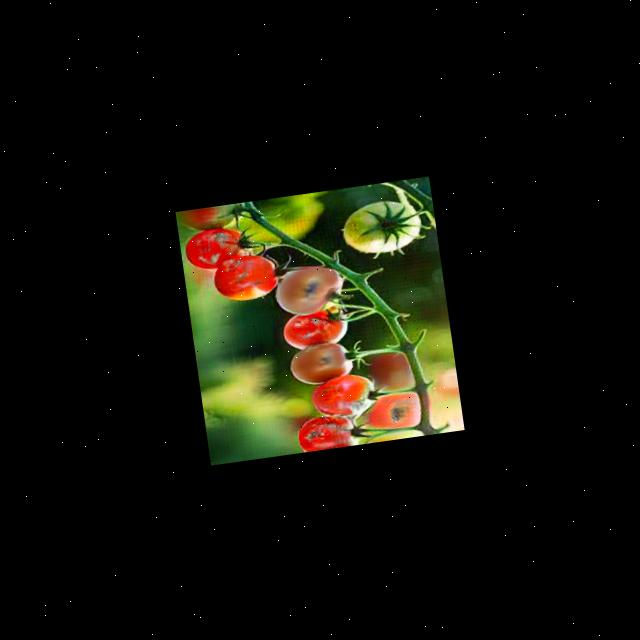tomato: (274, 264, 344, 316), (308, 371, 379, 422), (280, 304, 351, 353), (287, 339, 352, 388), (184, 222, 246, 272), (218, 254, 282, 302), (296, 412, 354, 452)
